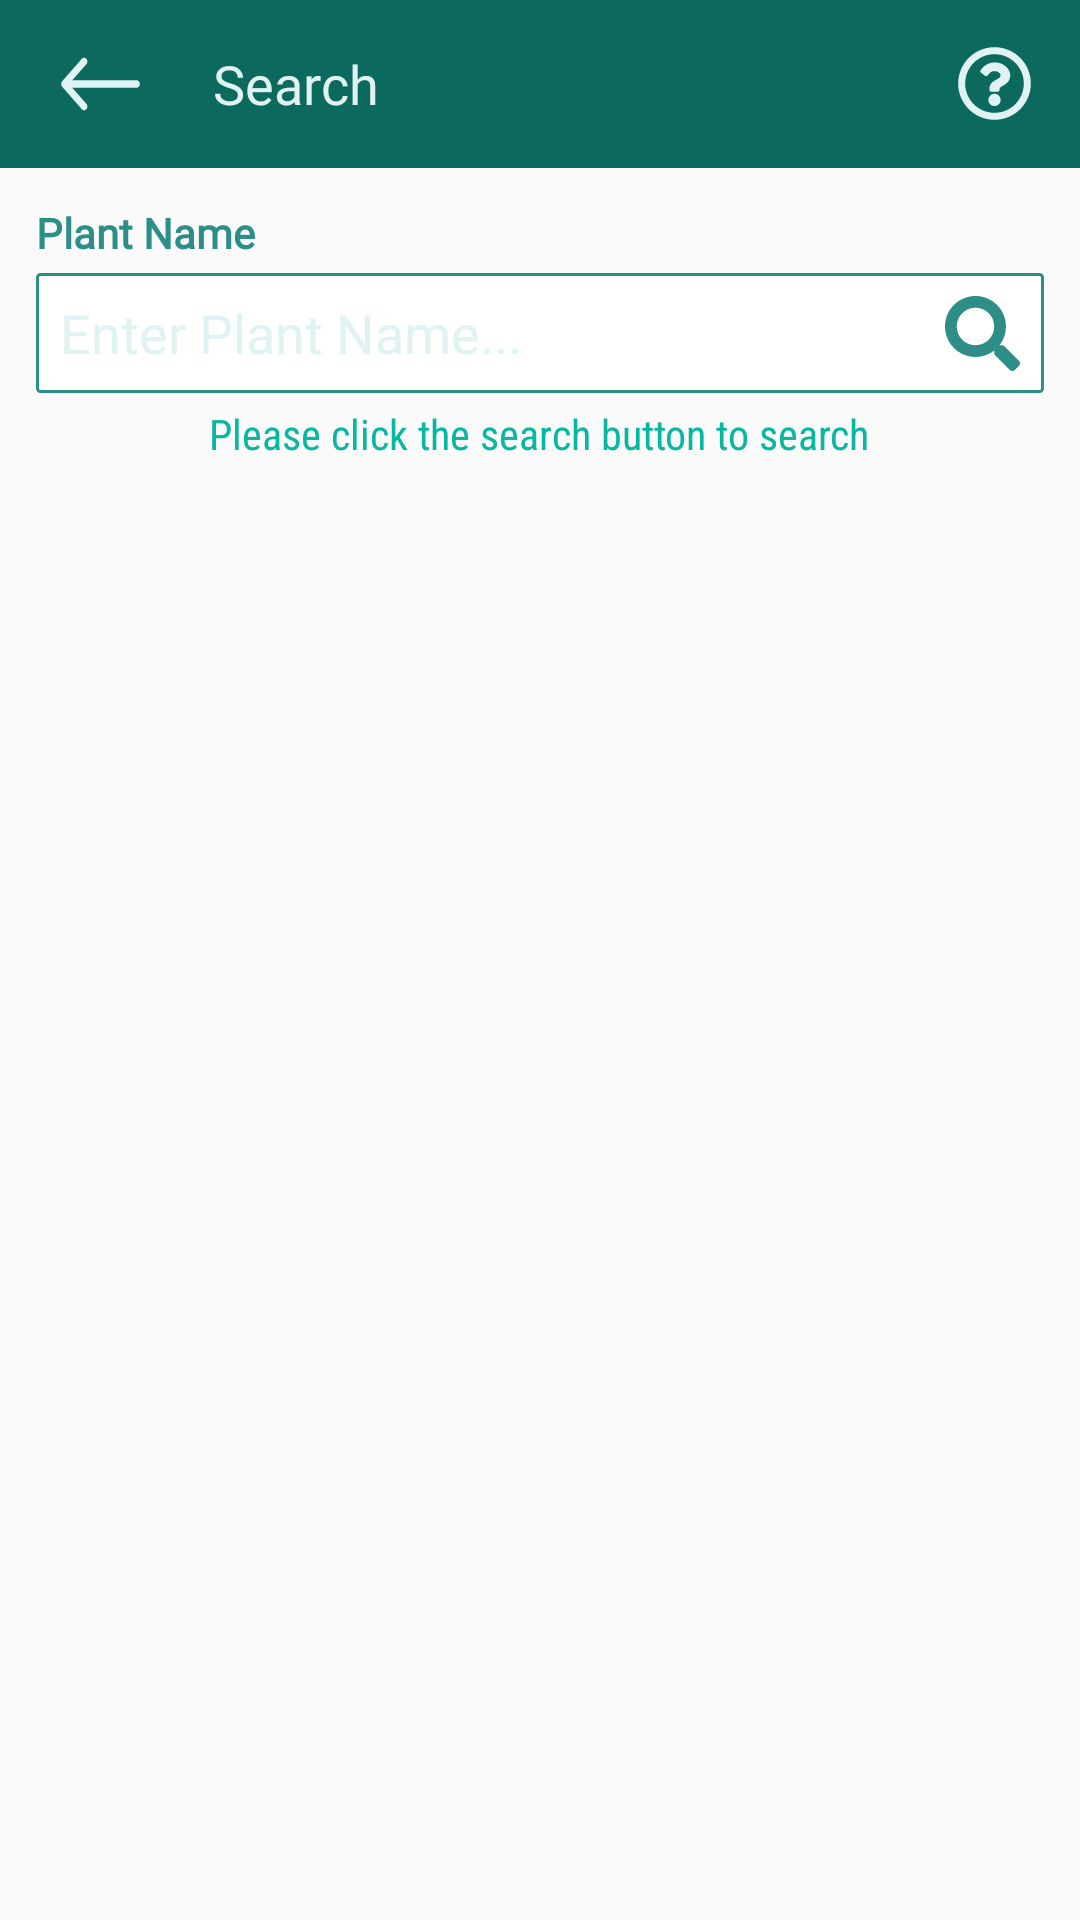

Where to tap for icons on this 1080px x 1920px app screen, as (x=x, y=y):
back: (x=100, y=84)
question mark: (x=994, y=83)
